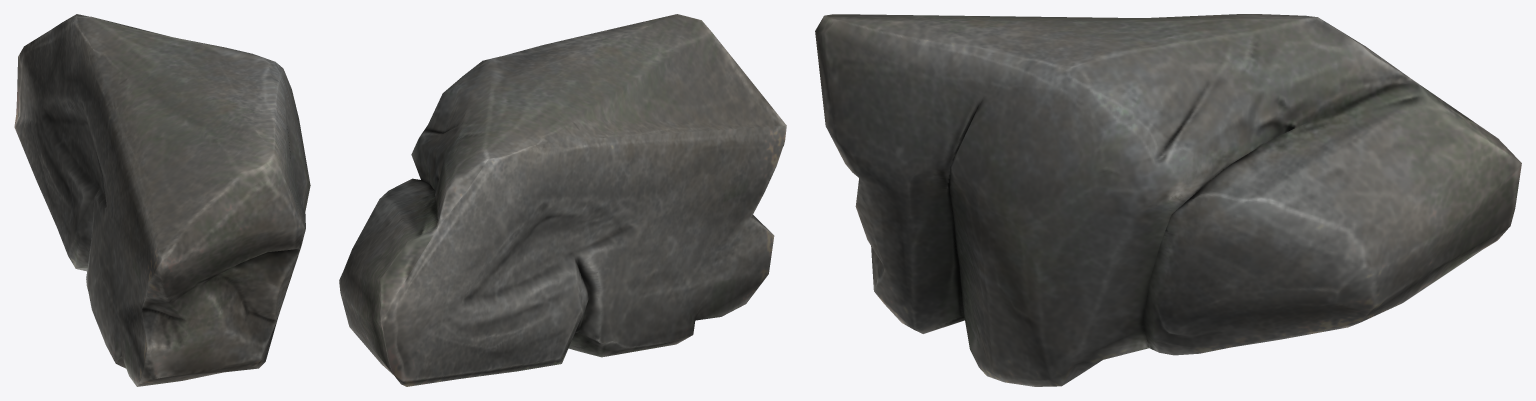
The model's file is rock_1.glb.
The picture shows the model from 3 angles, left to right: view 1: azimuth 30°, elevation 25°; view 2: azimuth 150°, elevation 25°; view 3: azimuth 270°, elevation 25°; orthographic projection. The views are drawn at different scales.
Visible parts, largest first — view 1: Rock_Low_Poly_0; view 2: Rock_Low_Poly_0; view 3: Rock_Low_Poly_0.
Part boxes in pixels (box(x1,y1,x2,y2)): Rock_Low_Poly_0: box(14, 14, 310, 386); Rock_Low_Poly_0: box(339, 14, 786, 386); Rock_Low_Poly_0: box(815, 14, 1521, 386).
Bounding box in the file's own units: 2.73 × 2.91 × 5.56.
1 material, 1 textured.
